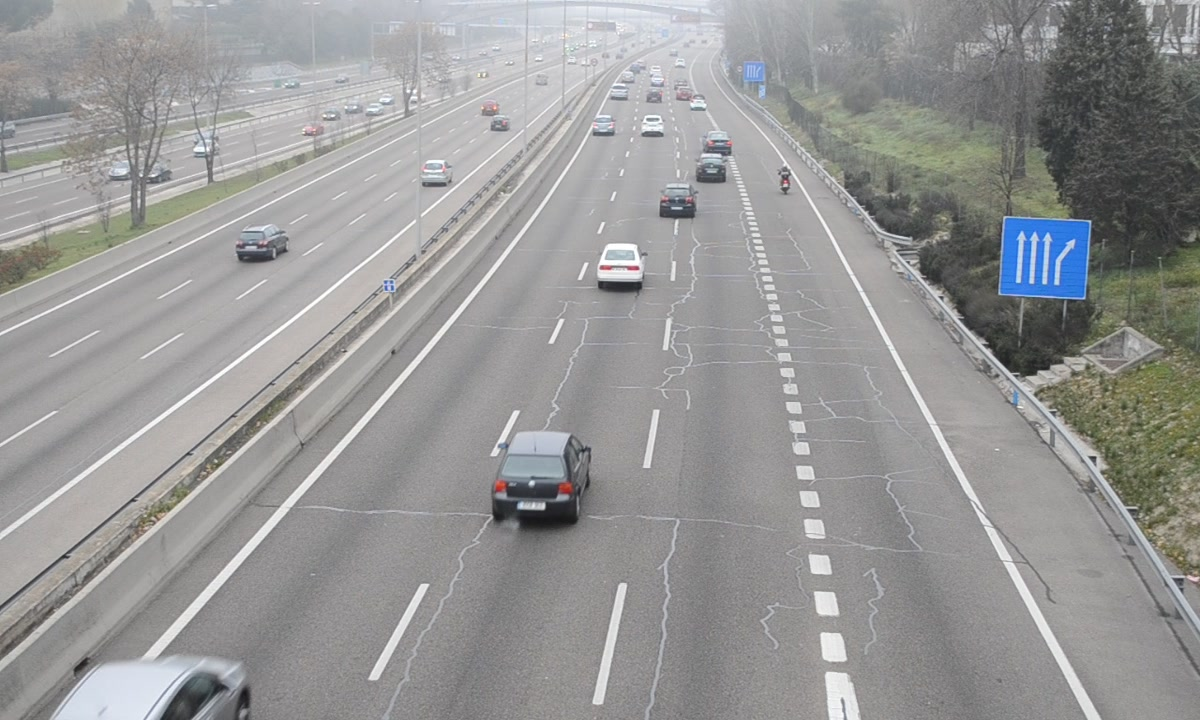car: (492, 431, 590, 517), (597, 243, 647, 287), (659, 183, 697, 219), (695, 153, 728, 184), (703, 130, 734, 154), (639, 114, 666, 137), (591, 114, 617, 136)
motorcycle: (777, 164, 794, 197)
